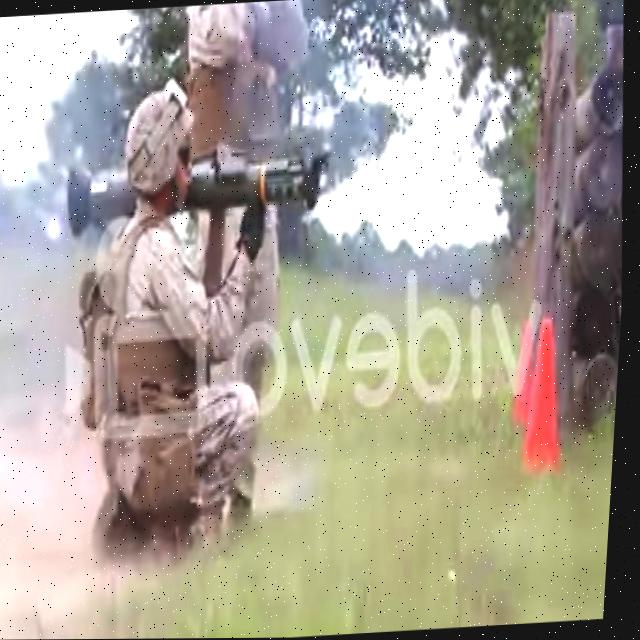rocket: (64, 150, 329, 238)
